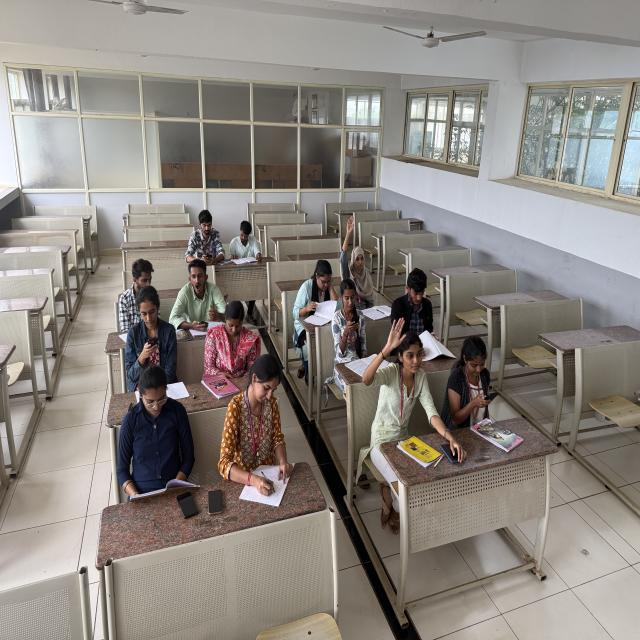Hand Rising: (365, 315, 435, 424), (338, 216, 382, 299)
Reading: (112, 377, 202, 505), (292, 259, 342, 321), (228, 217, 262, 266)
Using Phone: (120, 286, 182, 382), (444, 336, 502, 419), (168, 259, 224, 336), (328, 278, 367, 358), (184, 209, 230, 268)
Writing: (215, 353, 302, 497)
